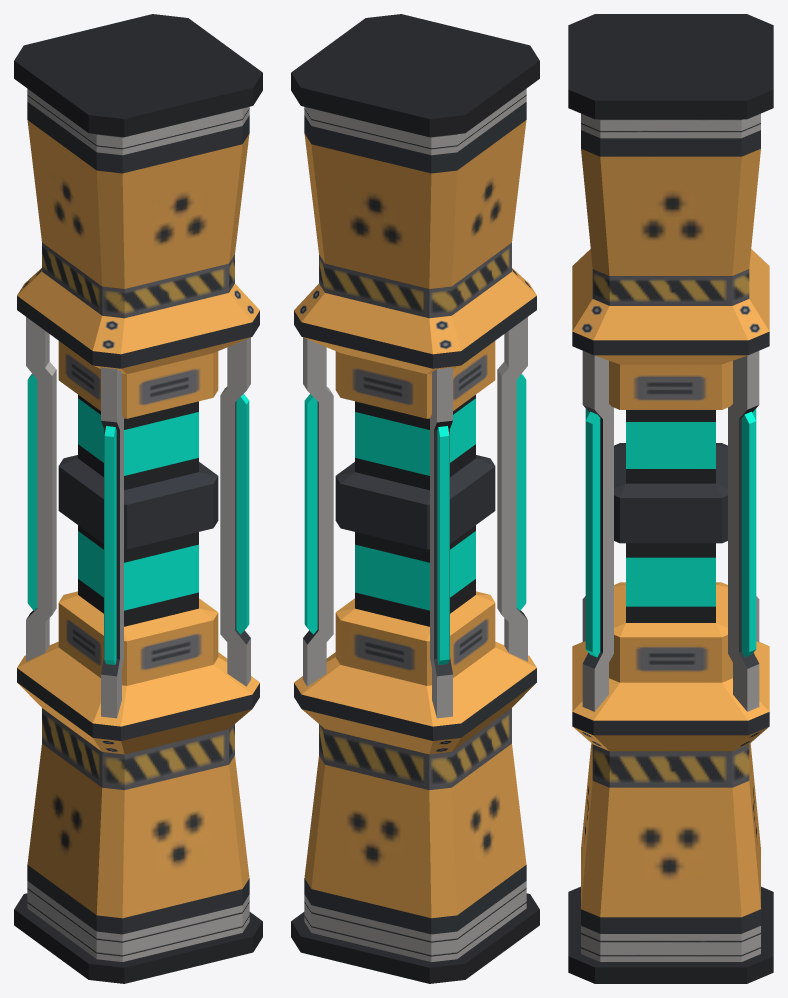
The model's file is cyber_SM_Bld_Corner_Trim_01.gltf.
The picture shows the model from 3 angles, left to right: view 1: azimuth 30°, elevation 25°; view 2: azimuth 150°, elevation 25°; view 3: azimuth 270°, elevation 25°; orthographic projection. The views are drawn at different scales.
Visible parts, largest first — view 1: SM_Bld_Corner_Trim_01; view 2: SM_Bld_Corner_Trim_01; view 3: SM_Bld_Corner_Trim_01.
Part boxes in pixels (x1,y1,x2,y2): SM_Bld_Corner_Trim_01: (14,14,262,983); SM_Bld_Corner_Trim_01: (291,14,539,983); SM_Bld_Corner_Trim_01: (568,14,773,983).
Bounding box in the file's own units: 0.6325 × 3 × 0.6325.
Materials: 1 (1 with a texture image).
